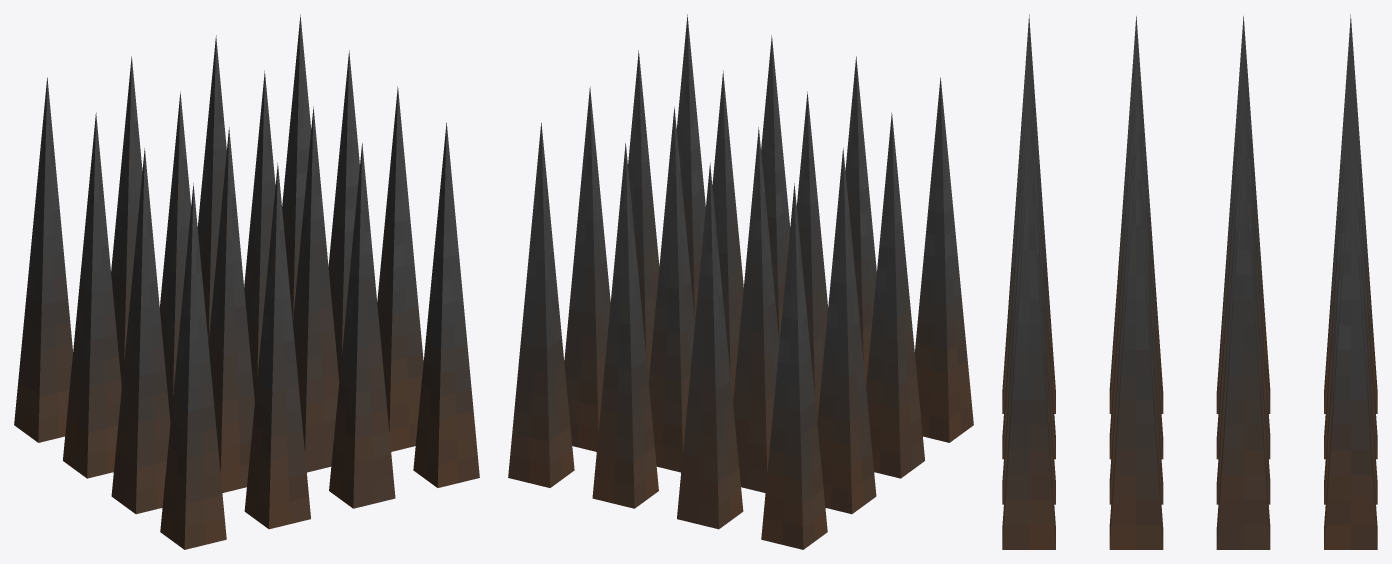
The model's file is spikes.obj.
3 views of the same model, side by side, from view 1: azimuth 30°, elevation 25°; view 2: azimuth 150°, elevation 25°; view 3: azimuth 270°, elevation 25° (orthographic). The views are drawn at different scales.
Parts seen in each view (by area): view 1: spikes; view 2: spikes; view 3: spikes.
Part boxes in pixels (x1=…): spikes: x1=14, y1=14, x2=479, y2=549; spikes: x1=508, y1=14, x2=973, y2=549; spikes: x1=1002, y1=14, x2=1377, y2=549.
Size of the model in its own units: 0.875 by 1 by 0.875.
